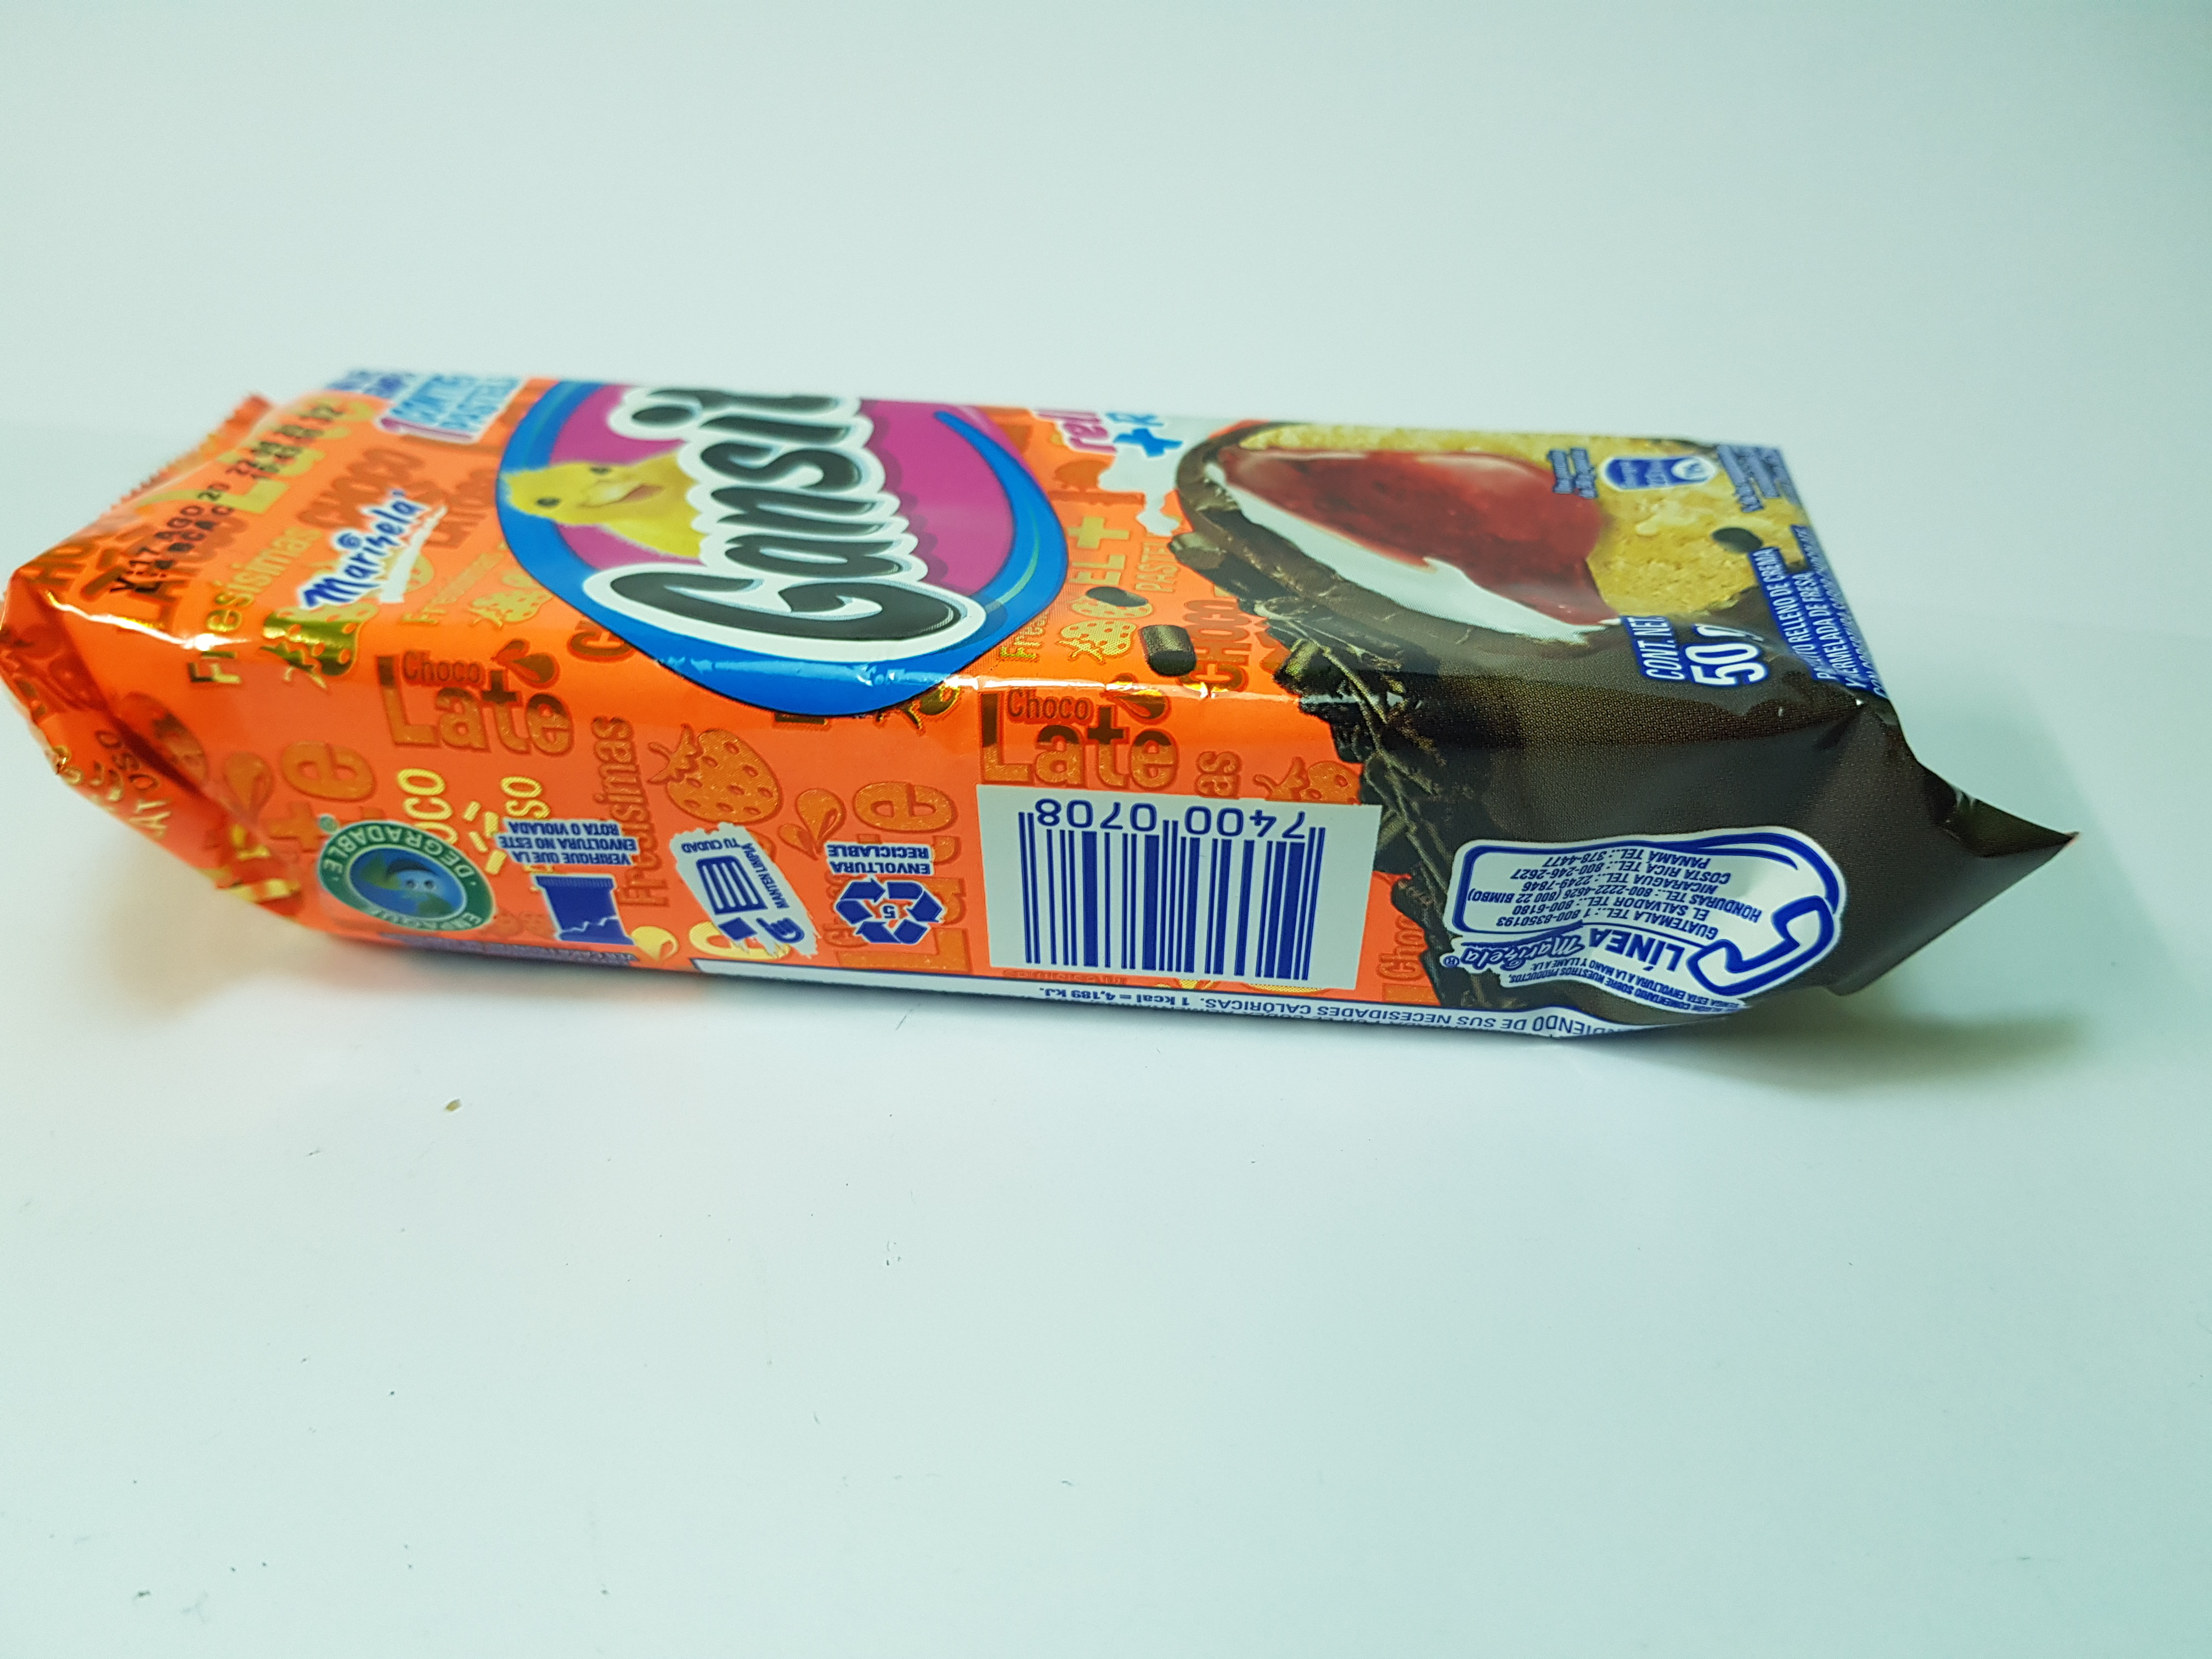gansito: (5, 333, 2099, 1093)
